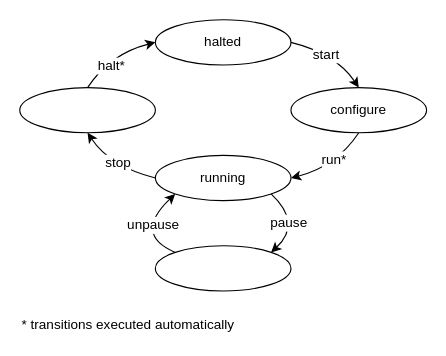
The diagram is 446 pixels wide and 356 high, and some of its shapes have lost their labels. Each missing label, with the centre of its shape:
"paused" belongs at (222,268).
"stopping" belongs at (87,109).
